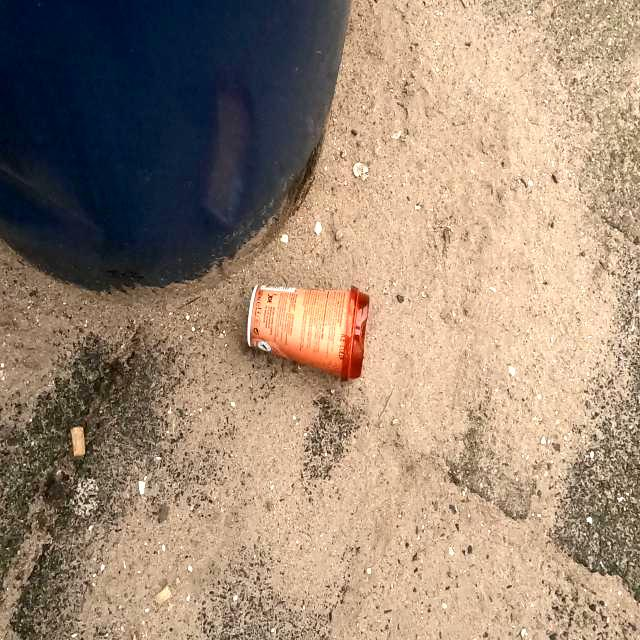Coffee Cup: (245, 282, 372, 382)
